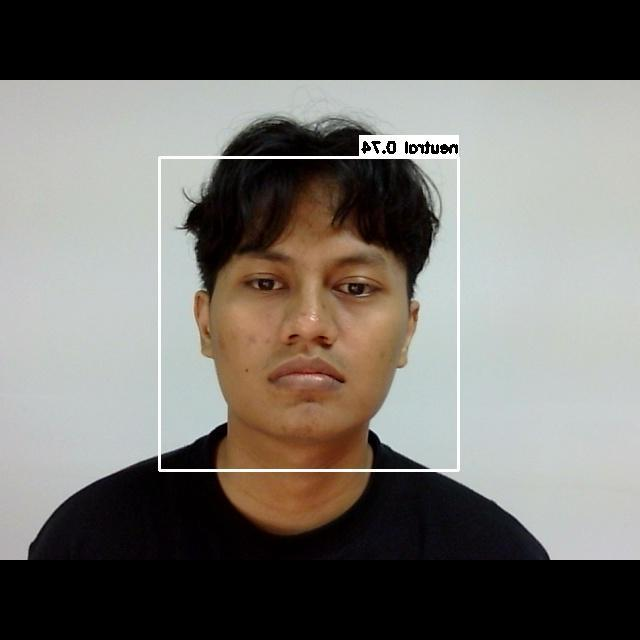Natural: (216, 239, 397, 460)
